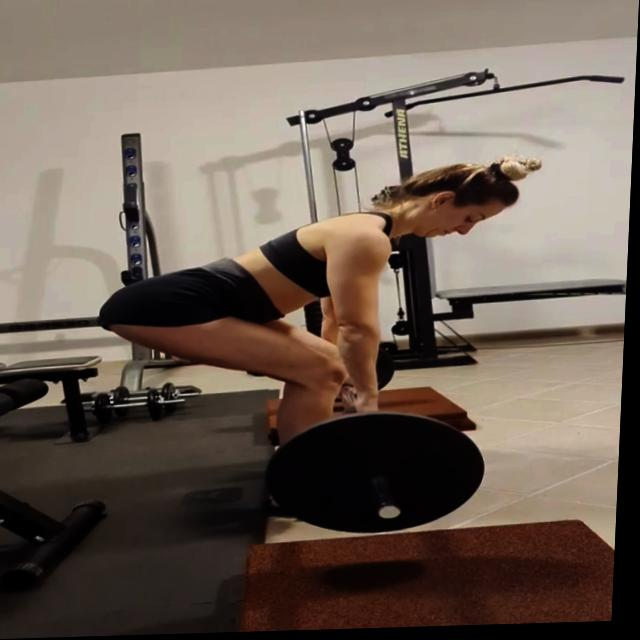barbell: (264, 411, 496, 540)
